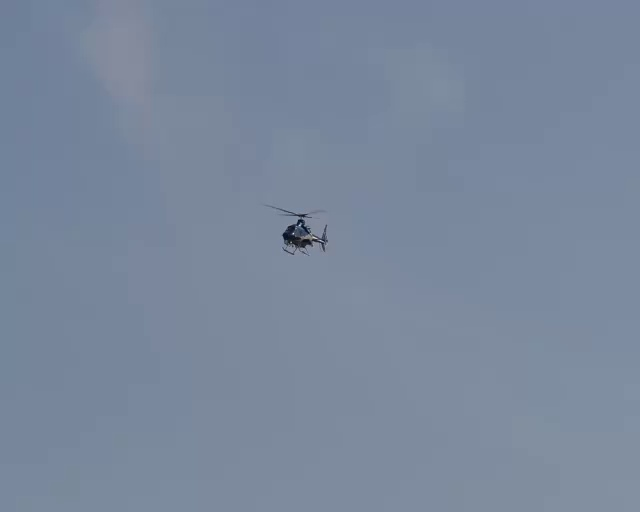HELICOPTER: (261, 202, 329, 256)
